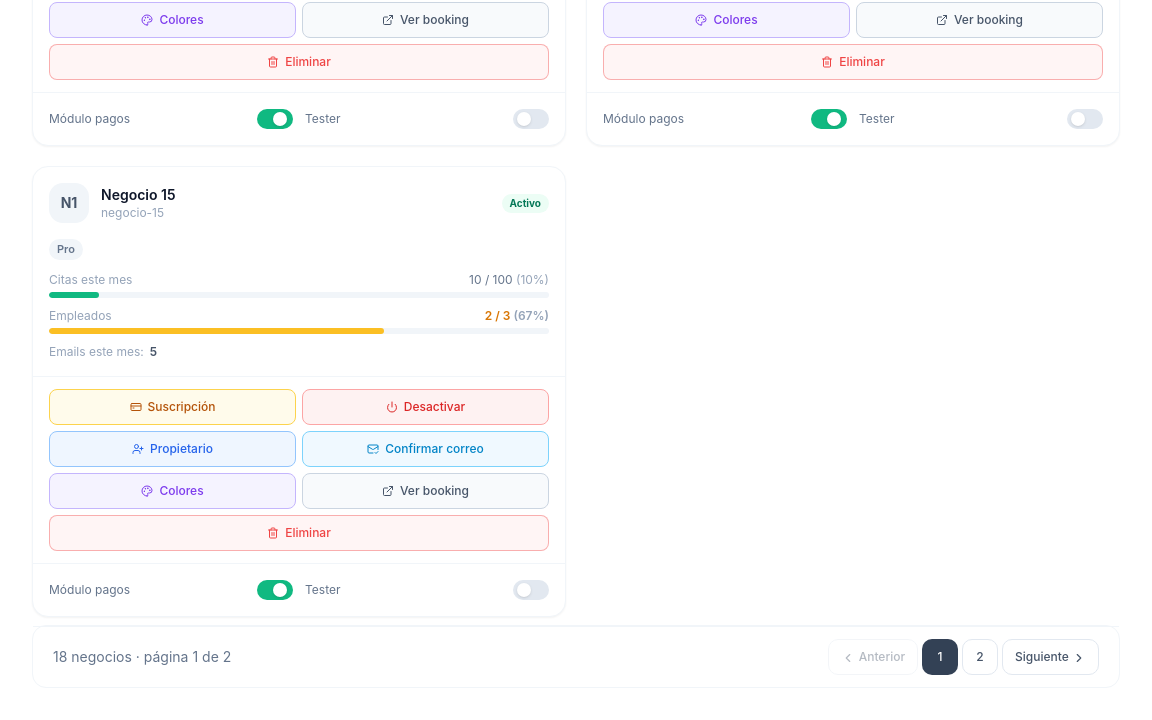
Test: NegociosAdminPage — filtros y paginación › pagina la rejilla de tarjetas a 15 por página
(page scrolled)
Expected: the text "Negocio 16" is not shown
Click the button with aria-label "Página siguiente". click: (1051, 657)
box: [1002,639,1099,675]
(page scrolled)
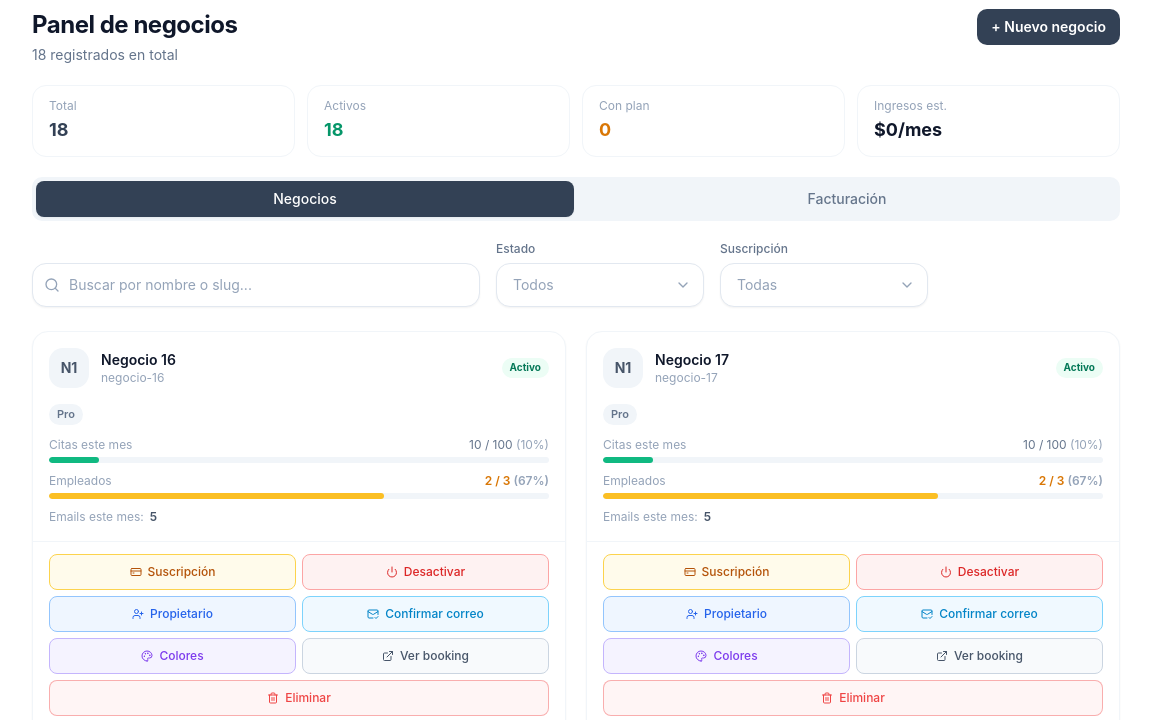
Result: the text "Negocio 16" is shown at [101,351,176,368]
